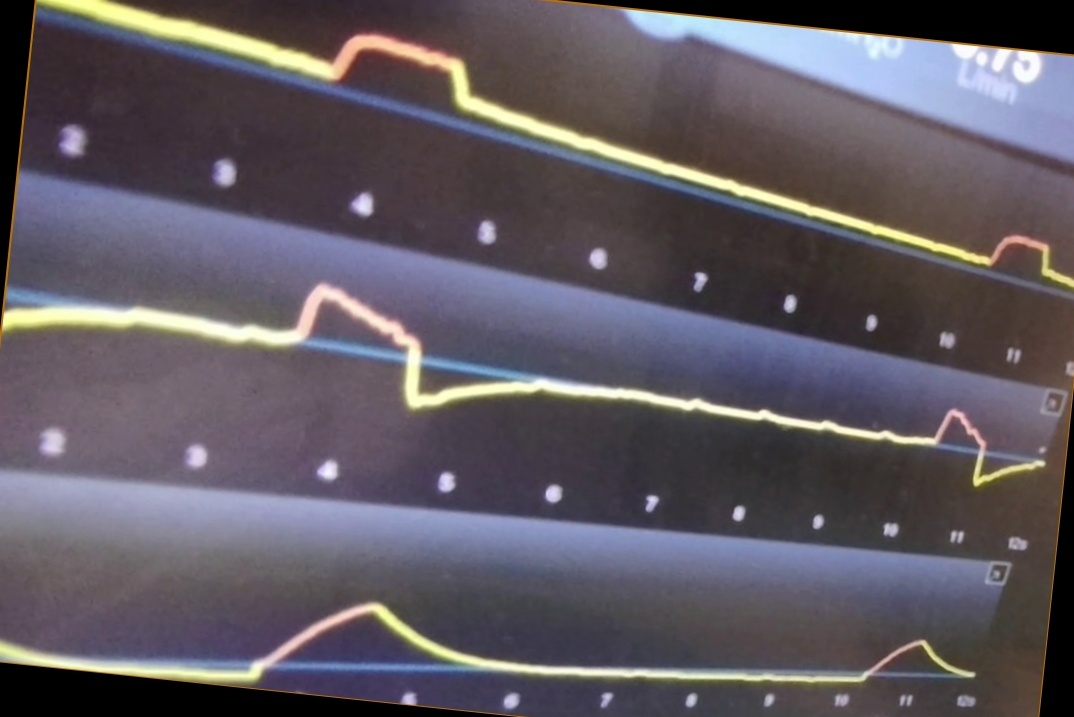Accumulation Flow: (7, 280, 1041, 490)
Volume: (1, 573, 977, 690)
